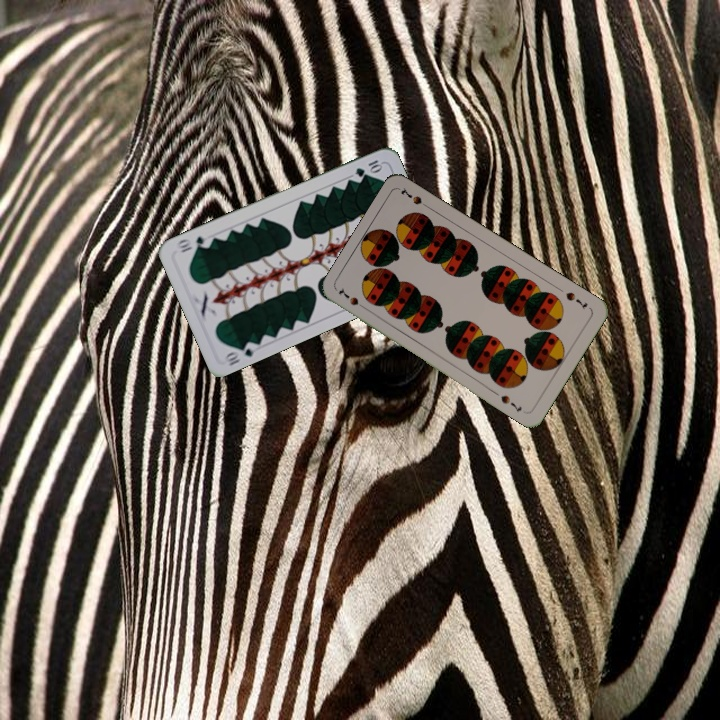G10: (220, 338, 257, 368), (351, 156, 385, 179)
S7: (335, 284, 370, 313), (561, 288, 590, 312)
